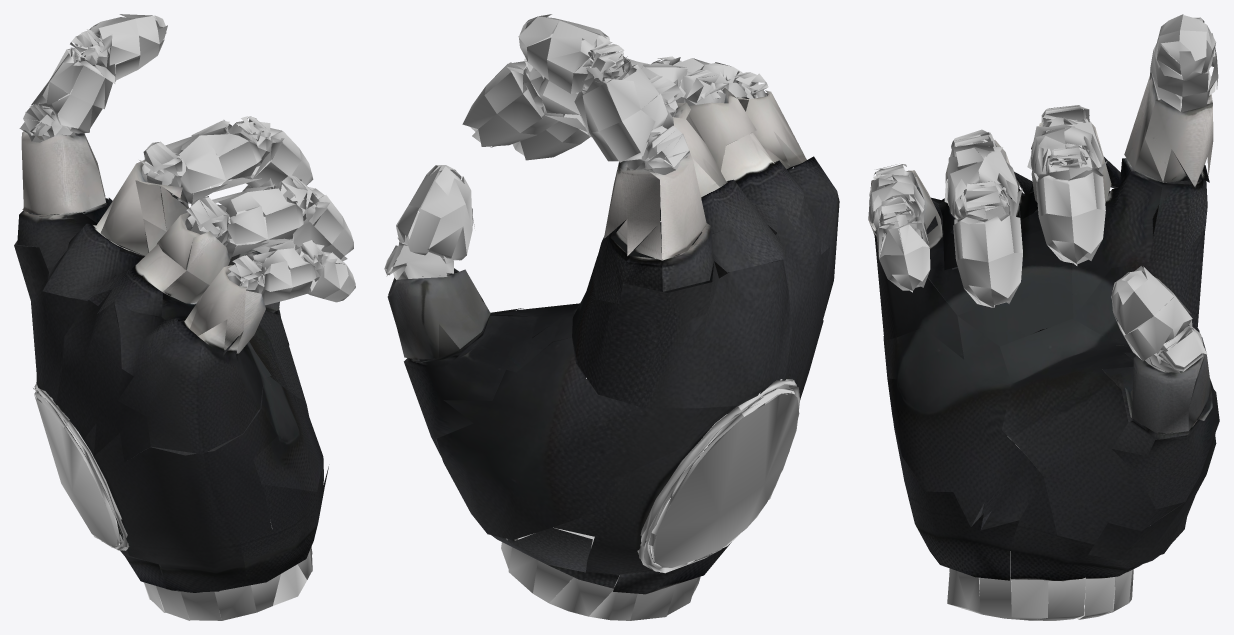
Rendered from HandRight.fbx.
3 views of the same model, side by side, from view 1: azimuth 30°, elevation 25°; view 2: azimuth 150°, elevation 25°; view 3: azimuth 270°, elevation 25° (orthographic). The views are drawn at different scales.
Visible parts, largest first — view 1: HandRightMesh; view 2: HandRightMesh; view 3: HandRightMesh.
Part boxes in pixels (x1,y1,x2,y2): HandRightMesh: (14, 14, 355, 620); HandRightMesh: (384, 14, 839, 620); HandRightMesh: (868, 14, 1219, 620).
Bounding box in the file's own units: 12.91 × 22.83 × 12.71.
